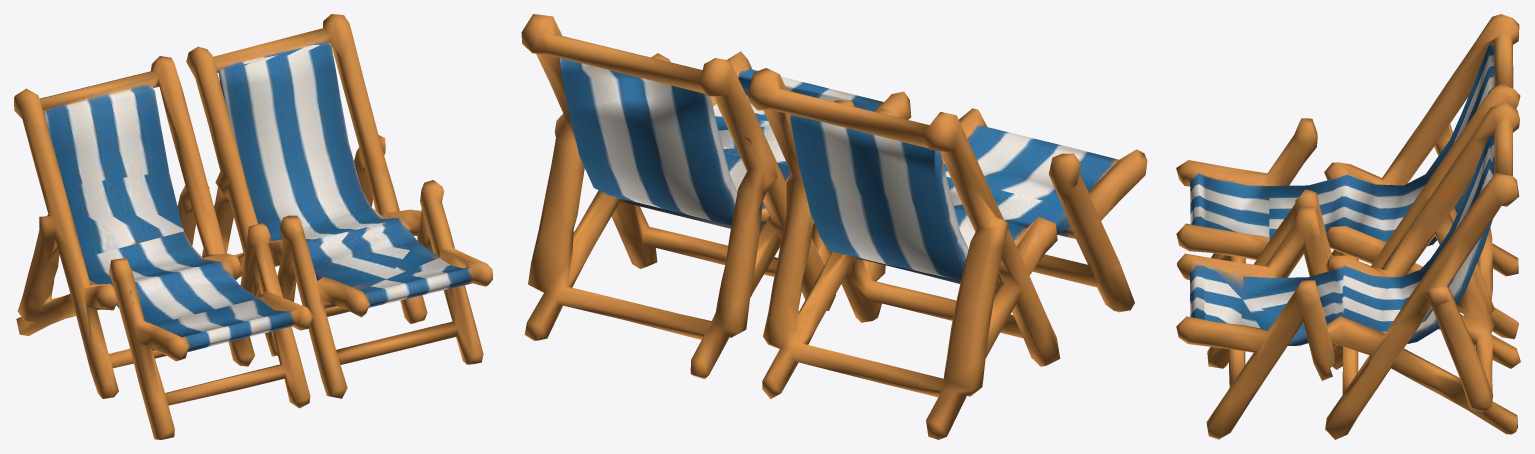
Rendered from deckchairs.glb.
The picture shows the model from 3 angles, left to right: view 1: azimuth 30°, elevation 25°; view 2: azimuth 150°, elevation 25°; view 3: azimuth 270°, elevation 25°; orthographic projection. The views are drawn at different scales.
Visible parts, largest first — view 1: model; view 2: model; view 3: model.
Boxes of the visible parts, <box> form: model: <box>14,14,492,439</box>; model: <box>521,14,1147,439</box>; model: <box>1176,14,1520,439</box>.
Size of the model in its own units: 1.88 by 1.33 by 1.57.
1 material, 1 textured.
